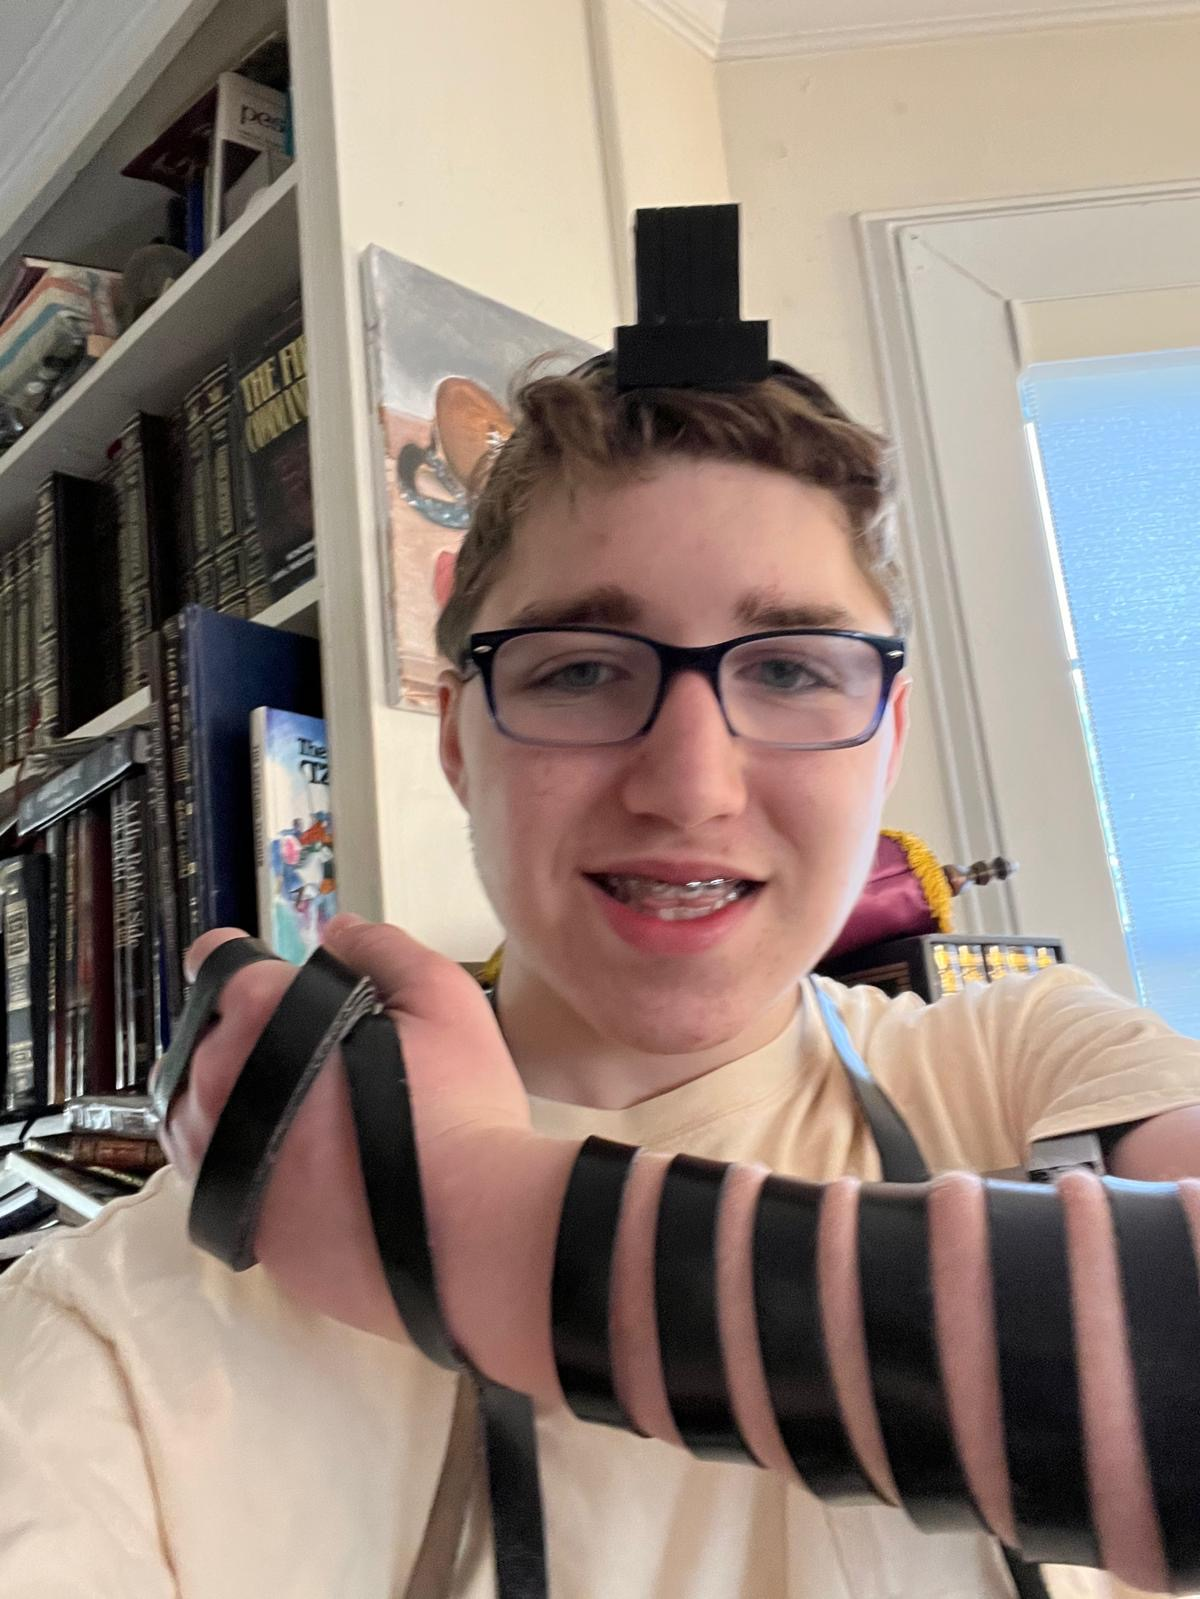tefillin: (604, 203, 770, 391)
